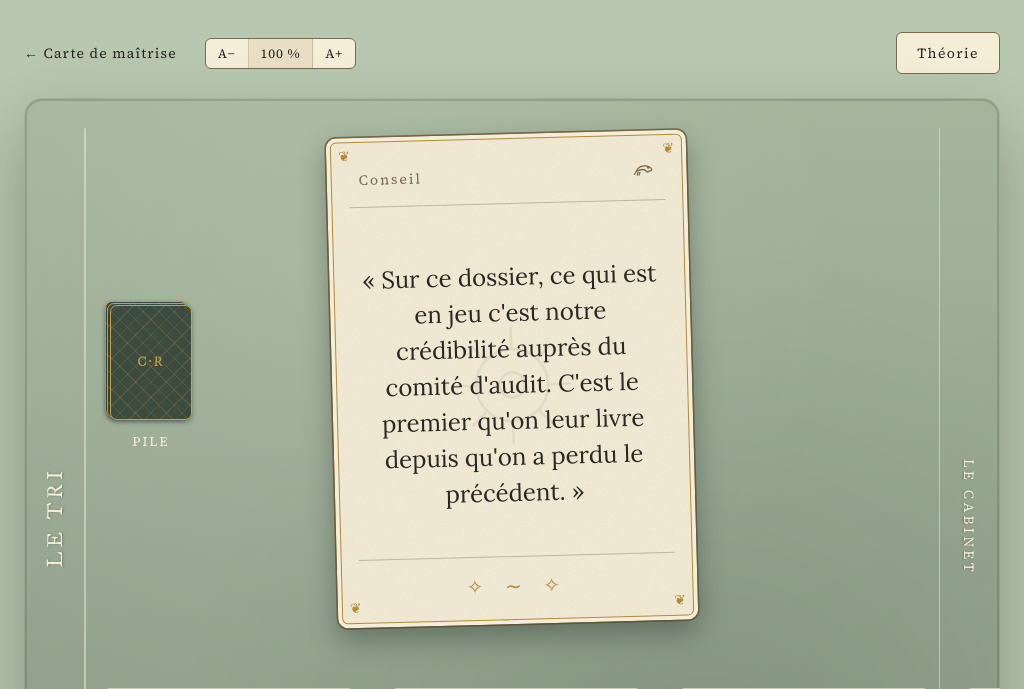
Test: TriBoard — Le Tri › le panneau Théorie s'ouvre à la demande via le bouton
The image size is (1024, 689).
Un clic sur "Théorie" l'ouvre.
Click the button "Théorie". click: click(948, 53)
box: [896,32,1000,74]
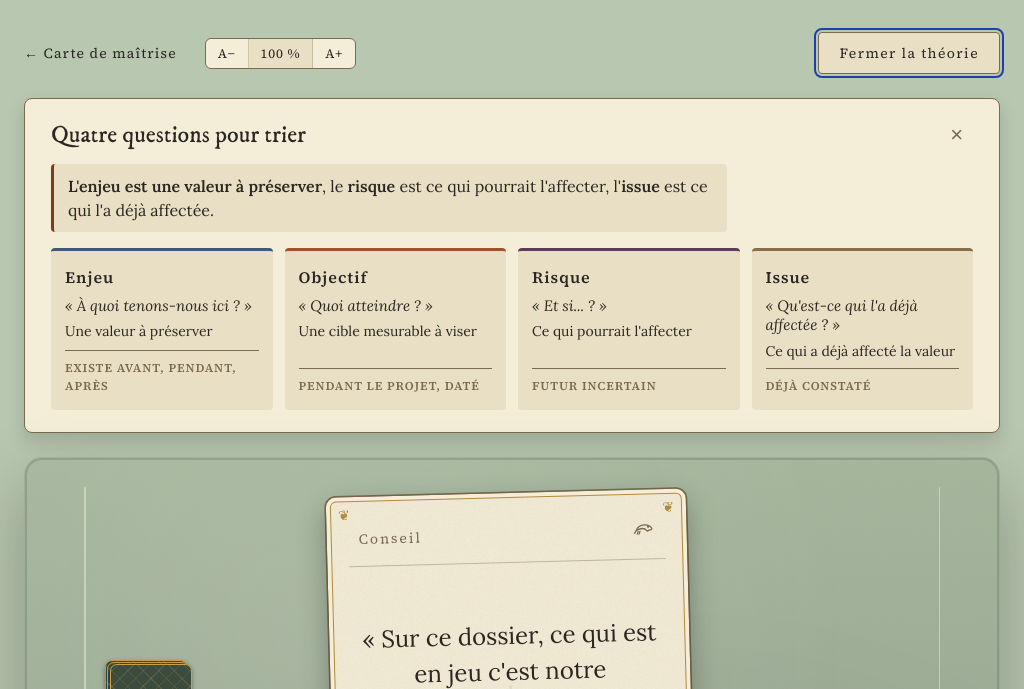
Expected: the element named "Référence mentale pour distinguer" is shown, [24,98,1000,433]
Expected: the text "Enjeu" is shown, [65,266,114,288]
Expected: the text "Objectif" is shown, [298,266,368,288]
